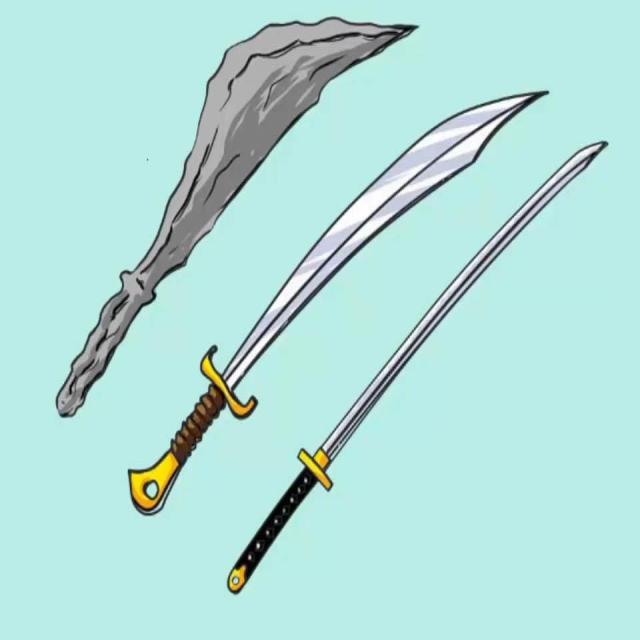weapon: (215, 107, 616, 608), (125, 66, 553, 525)
